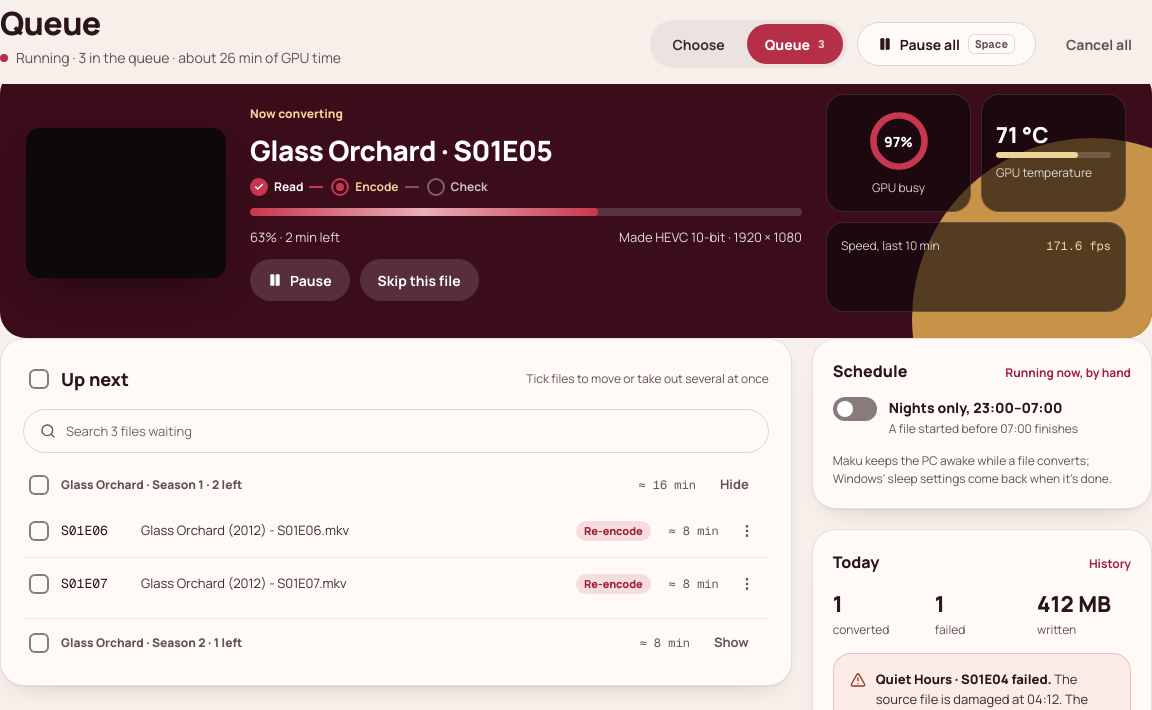
QueuePage › shows a file waiting in its folder, or copies its path
Press Enter in the button named "More for Glass Orchard · S01E07", box [731,568,763,600]
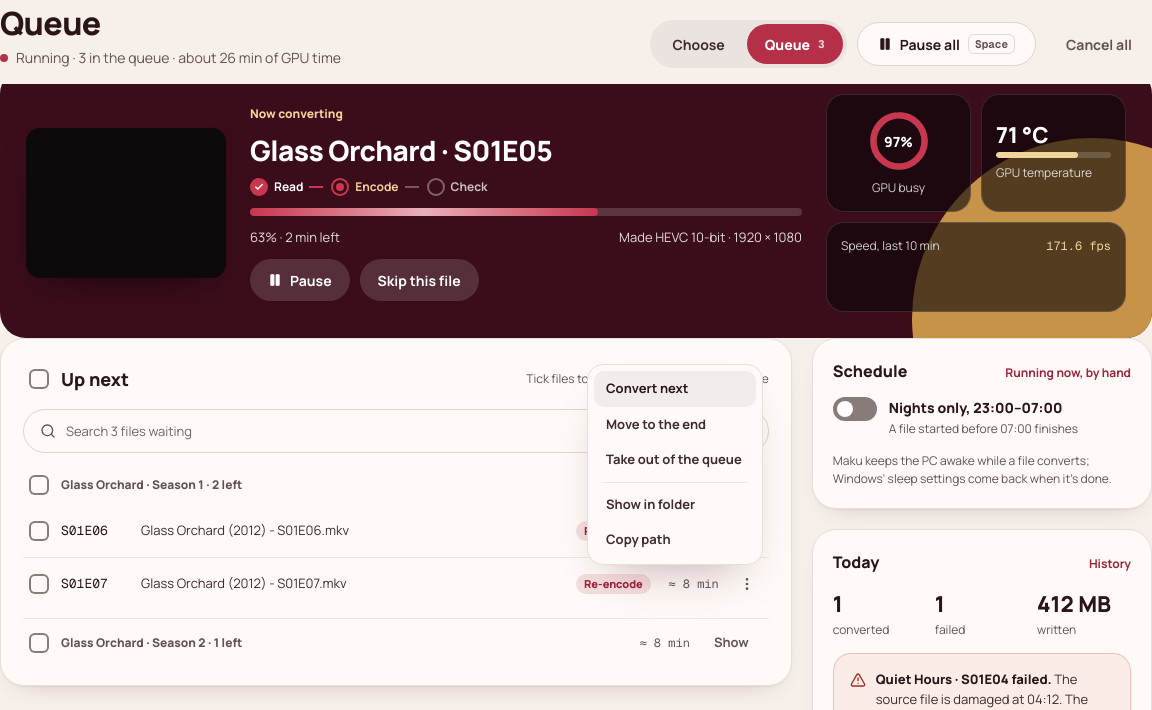
Click the menu item "Show in folder": click(651, 504) [606,494,695,512]
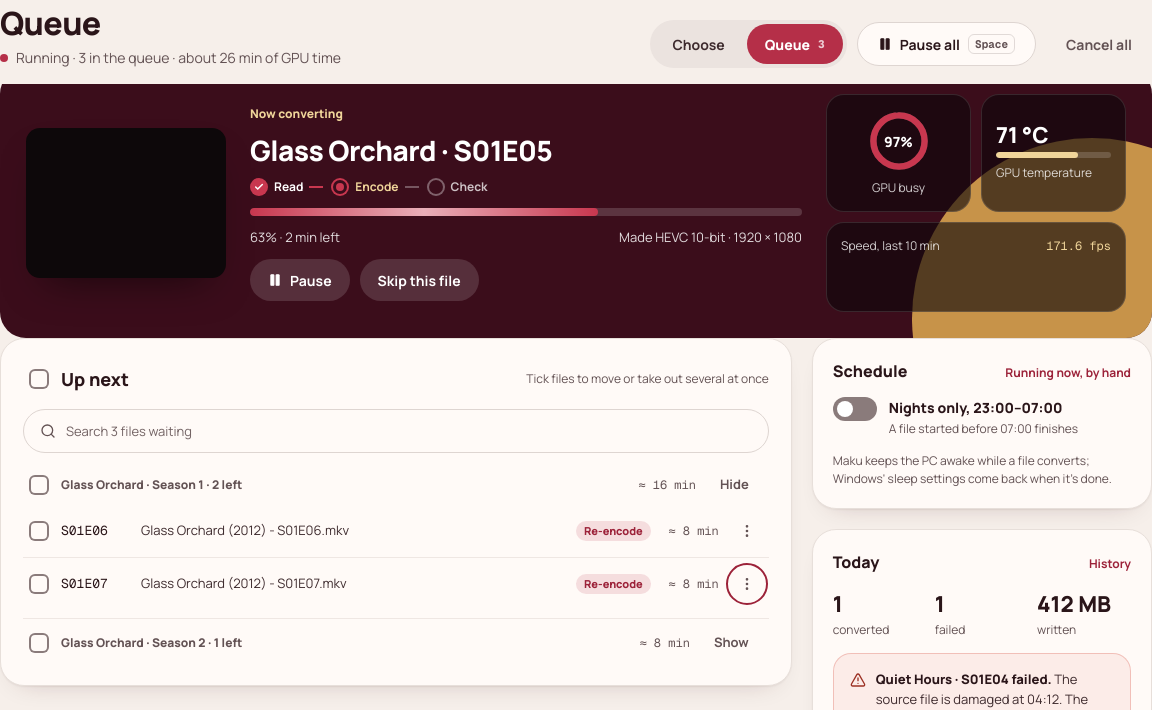
Press Enter in the button named "More for Glass Orchard · S01E07", box [731,568,763,600]
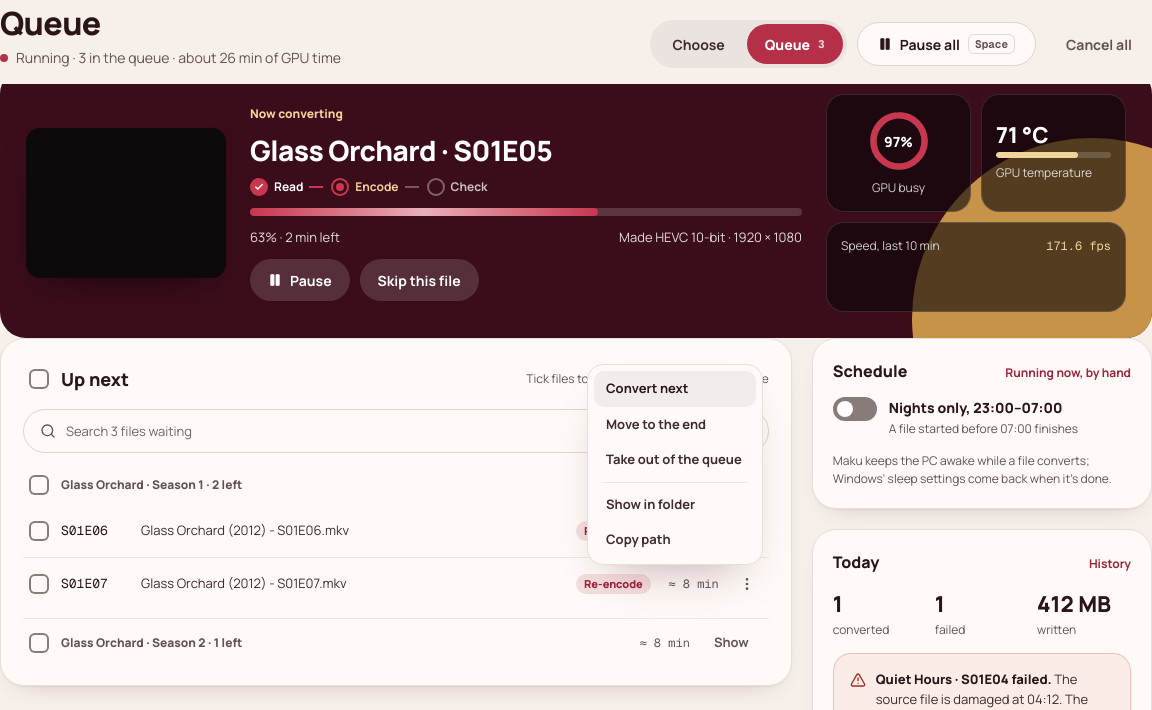
Click the menu item "Copy path": click(638, 539) [606,530,670,548]
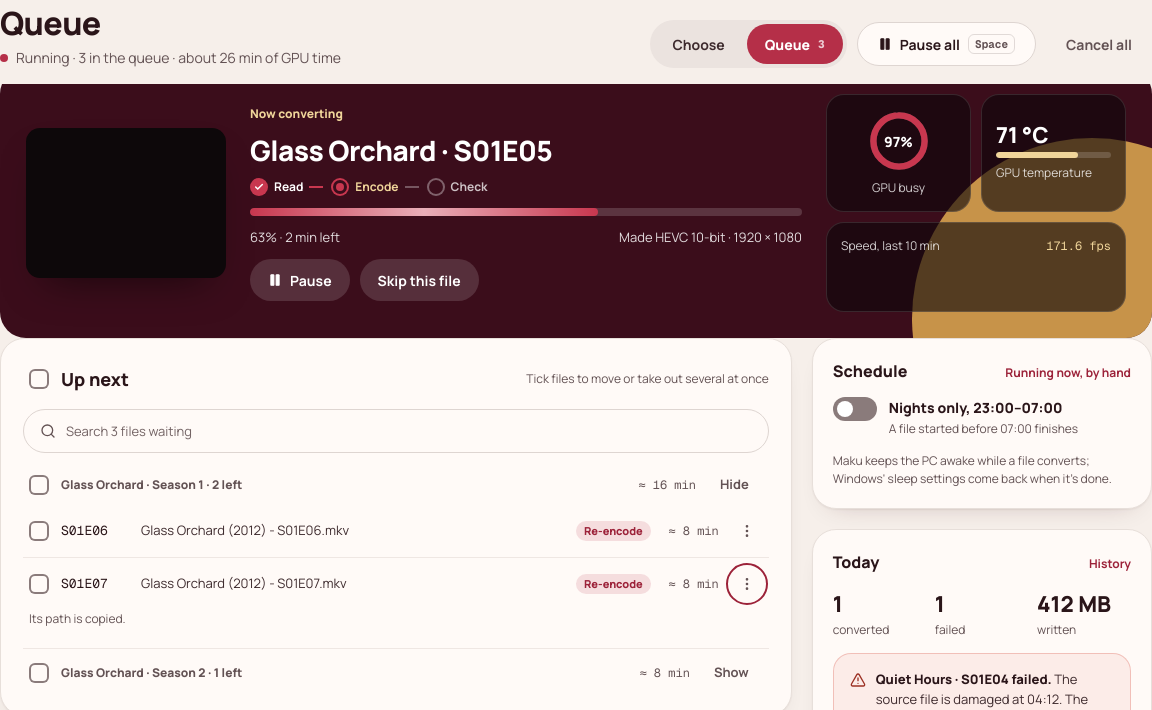
Now the text "Its path is copied." is shown, box [29,610,126,627]
